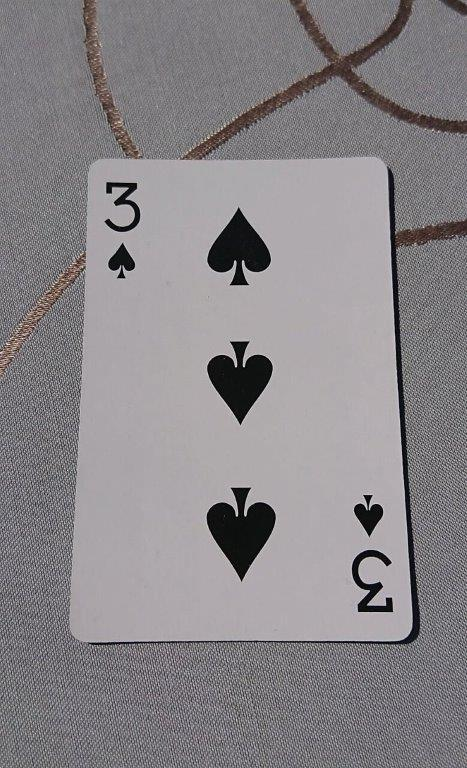3S: (67, 155, 417, 644)
